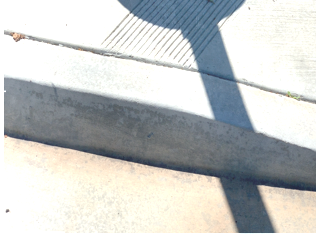Edge: (5, 76, 315, 191)
